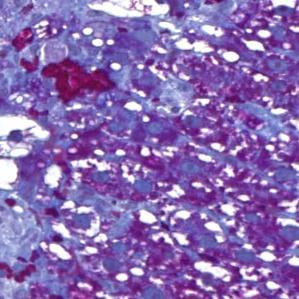ballooning: (1, 113, 54, 160), (86, 3, 173, 24)
